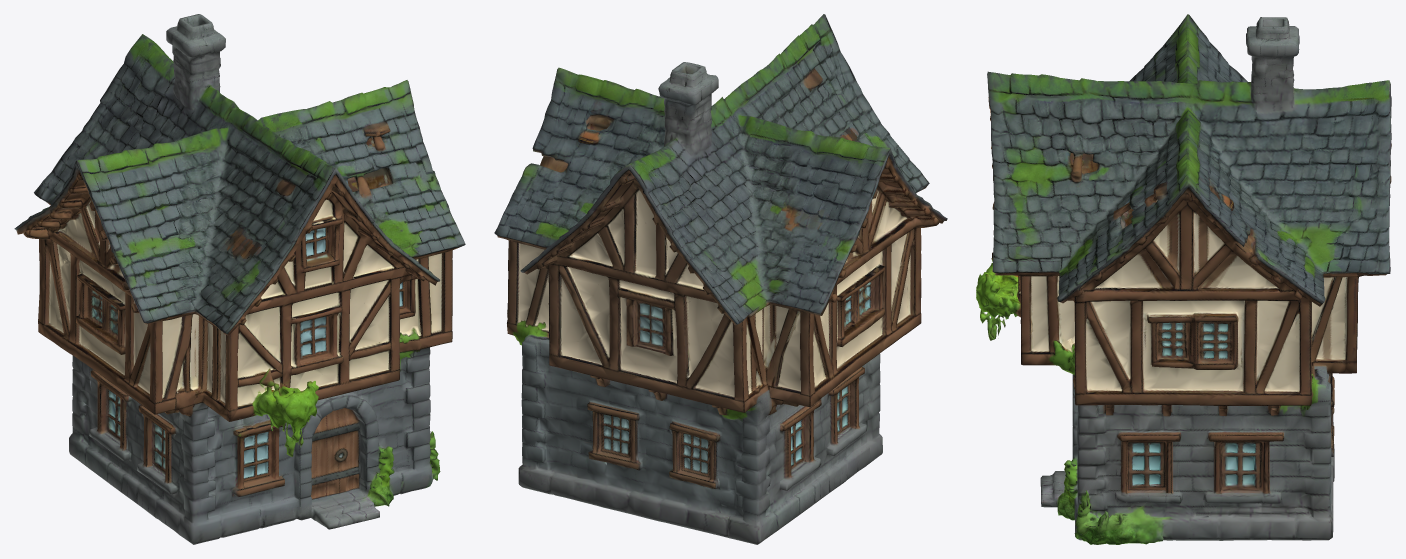
3 views of the same model, side by side, from view 1: azimuth 30°, elevation 25°; view 2: azimuth 150°, elevation 25°; view 3: azimuth 270°, elevation 25° (orthographic). The views are drawn at different scales.
Visible parts, largest first — view 1: Mesh_0; view 2: Mesh_0; view 3: Mesh_0.
Boxes of the visible parts, x1,y1,x2,y2 form: Mesh_0: (14, 14, 465, 544); Mesh_0: (494, 14, 947, 544); Mesh_0: (976, 14, 1391, 544).
Size of the model in its own units: 154 by 191 by 161.
1 material, 1 textured.
